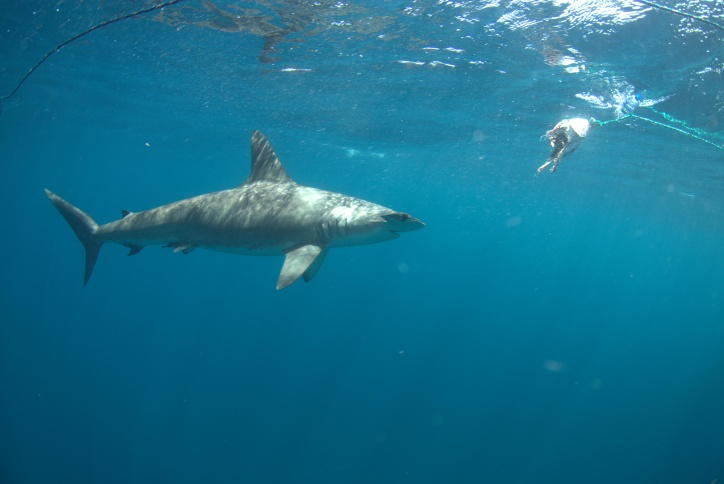Hammer: (40, 120, 431, 323)
